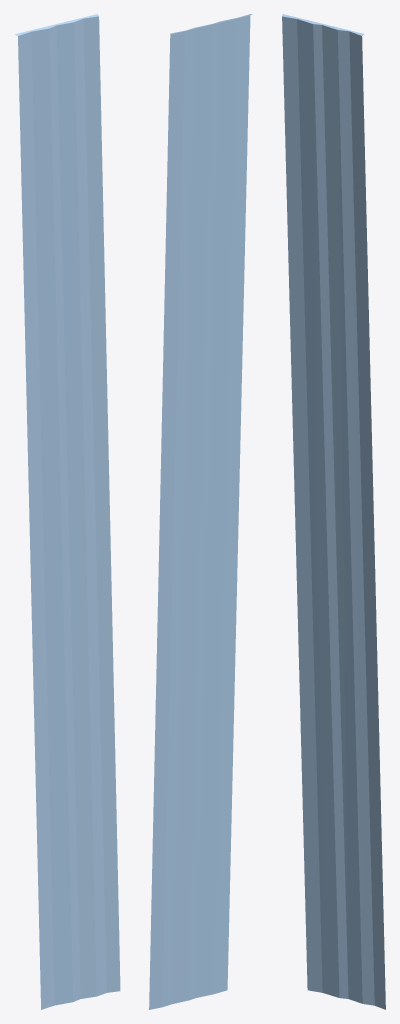
File: Waterfall_Straight_Extra_Large_01.fbx
3 views of the same model, side by side, from view 1: azimuth 30°, elevation 25°; view 2: azimuth 210°, elevation 25°; view 3: azimuth 330°, elevation 25° (orthographic).
Visible parts, largest first — view 1: Waterfall_Straight_Extra_Large_01; view 2: Waterfall_Straight_Extra_Large_01; view 3: Waterfall_Straight_Extra_Large_01.
Boxes of the visible parts, x1,y1,x2,y2 form: Waterfall_Straight_Extra_Large_01: (15, 14, 120, 1009); Waterfall_Straight_Extra_Large_01: (149, 14, 252, 1009); Waterfall_Straight_Extra_Large_01: (282, 14, 385, 1009).
Bounding box in the file's own units: 79.57 × 709 × 3.19.
